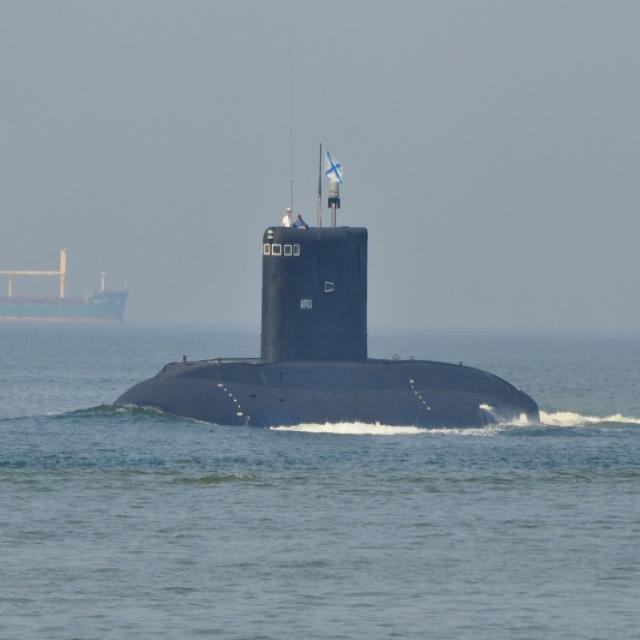submarine: (113, 227, 544, 431)
